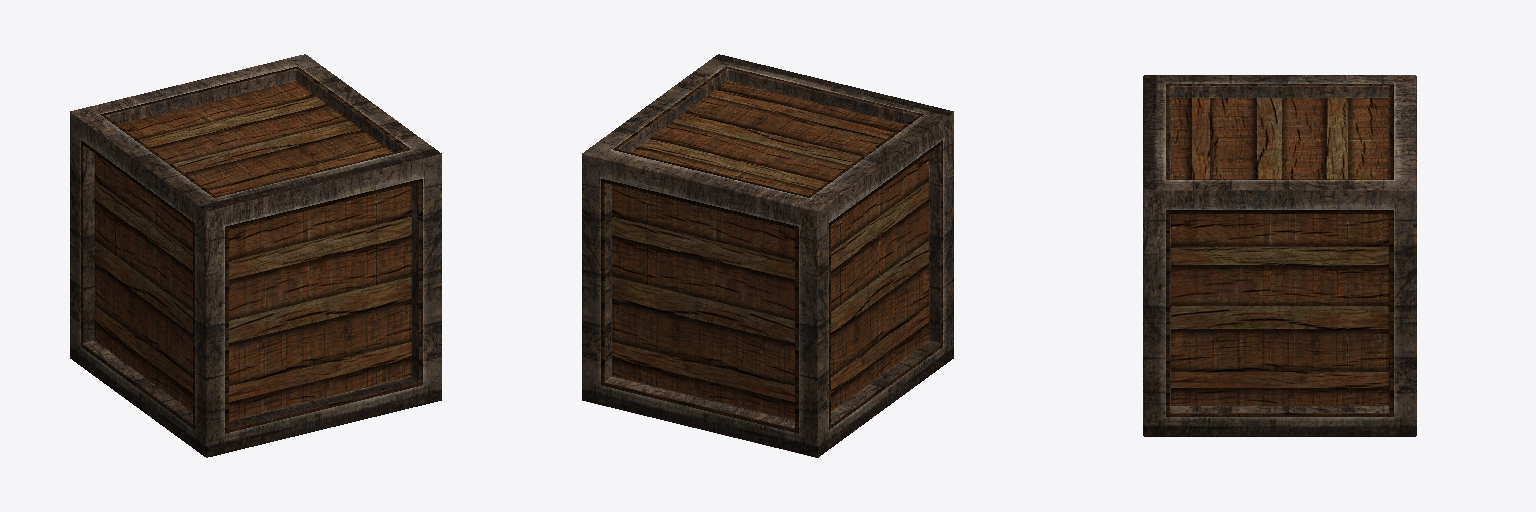
3 renders of one model, left to right at view 1: azimuth 30°, elevation 25°; view 2: azimuth 150°, elevation 25°; view 3: azimuth 270°, elevation 25°, orthographic.
Visible parts, largest first — view 1: Cube; view 2: Cube; view 3: Cube.
Boxes of the visible parts, <box> form: Cube: <box>70,54,441,457</box>; Cube: <box>582,54,953,457</box>; Cube: <box>1143,75,1416,436</box>.
Size of the model in its own units: 2 by 2 by 2.
1 materials, 1 textured.